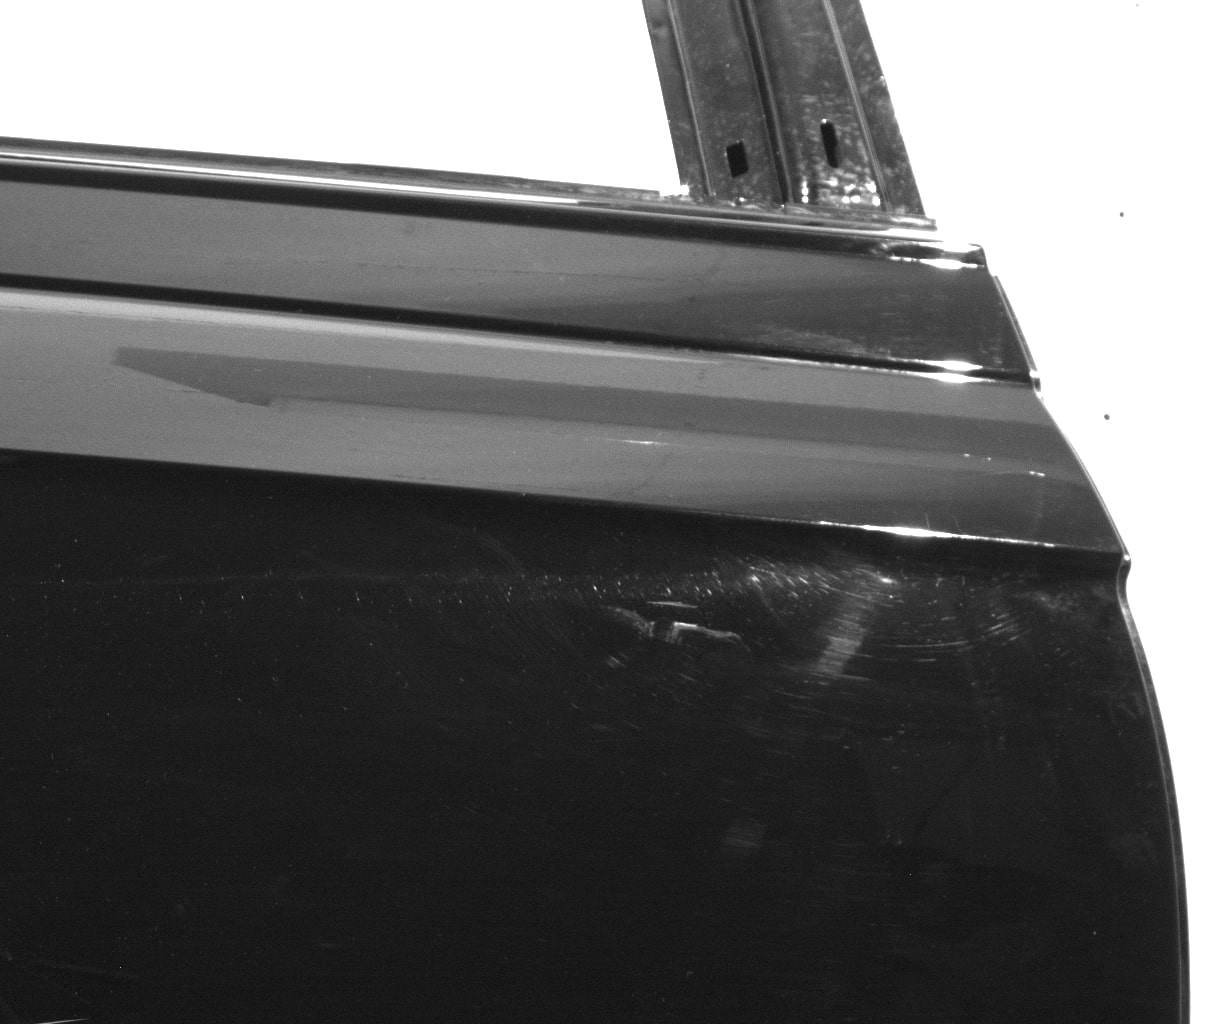scratch: (647, 600, 702, 611)
